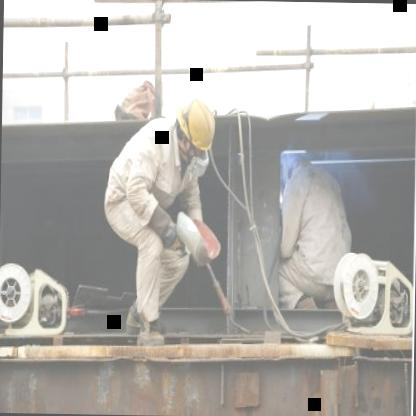helmet: (173, 89, 220, 165)
